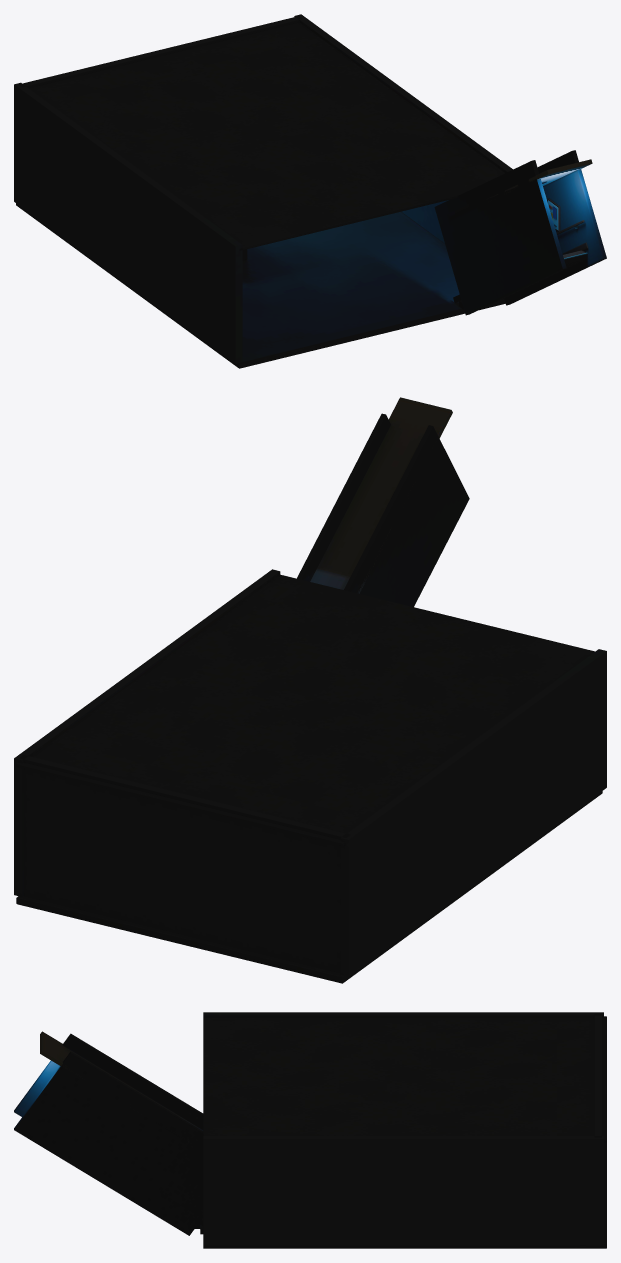
File: basement-baked.glb
3 views of the same model, one above another, from view 1: azimuth 30°, elevation 25°; view 2: azimuth 150°, elevation 25°; view 3: azimuth 270°, elevation 25° (orthographic). The views are drawn at different scales.
Parts seen in each view (by area): view 1: Basement ceiling, Basement painted masonry side wall, Concrete slab, Basement stairwell wall UV.001, Basement stairwell wall UV, Basement painted masonry side wall.001, Basement painted masonry rear wall, Basement stairwell ceiling UV; view 2: Basement ceiling, Basement painted masonry rear wall, Basement painted masonry side wall, Basement stairwell wall UV.001, Basement stairwell ceiling UV, Basement painted masonry side wall.001, Concrete slab, Basement stairwell wall UV; view 3: Basement ceiling, Basement painted masonry side wall.001, Basement stairwell wall UV, Basement stairwell wall UV.001, Basement painted masonry side wall, Concrete slab, Basement stairwell ceiling UV, Basement painted masonry rear wall.
Boxes of the visible parts, <box> form: Basement ceiling: <box>29,22,504,250</box>; Basement painted masonry side wall: <box>14,82,242,363</box>; Concrete slab: <box>16,203,505,368</box>; Basement stairwell wall UV.001: <box>434,160,566,315</box>; Basement stairwell wall UV: <box>504,150,606,305</box>; Basement painted masonry side wall.001: <box>294,14,512,243</box>; Basement painted masonry rear wall: <box>19,16,301,88</box>; Basement stairwell ceiling UV: <box>483,159,592,200</box>; Basement ceiling: <box>16,574,594,846</box>; Basement painted masonry rear wall: <box>20,756,349,973</box>; Basement painted masonry side wall: <box>340,649,606,976</box>; Basement stairwell wall UV.001: <box>344,425,469,606</box>; Basement stairwell ceiling UV: <box>310,397,452,593</box>; Basement painted masonry side wall.001: <box>14,569,280,896</box>; Concrete slab: <box>16,791,602,983</box>; Basement stairwell wall UV: <box>297,413,390,581</box>; Basement ceiling: <box>203,1016,606,1142</box>; Basement painted masonry side wall.001: <box>203,1136,603,1244</box>; Basement stairwell wall UV: <box>14,1051,203,1235</box>; Basement stairwell wall UV.001: <box>14,1033,203,1129</box>; Basement painted masonry side wall: <box>203,1012,603,1017</box>; Concrete slab: <box>203,1142,606,1248</box>; Basement stairwell ceiling UV: <box>40,1031,203,1151</box>; Basement painted masonry rear wall: <box>594,1014,601,1137</box>.
Bounding box in the file's own units: 10.25 × 7.18 × 20.27.
39 materials, 38 textured.
